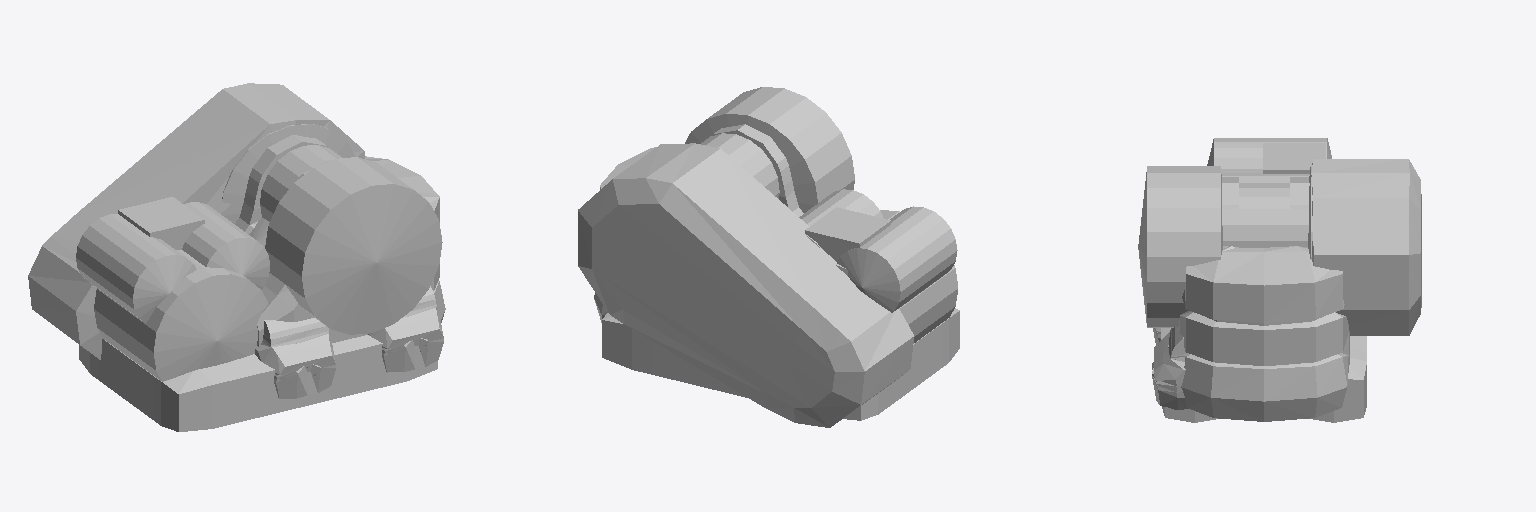
File: Cage.obj
3 views of the same model, side by side, from view 1: azimuth 30°, elevation 25°; view 2: azimuth 150°, elevation 25°; view 3: azimuth 270°, elevation 25° (orthographic).
Parts seen in each view (by area): view 1: Cage; view 2: Cage; view 3: Cage.
Part boxes in pixels (x1,y1,x2,y2): Cage: (28,83,445,431); Cage: (578,87,959,427); Cage: (1138,138,1421,422).
Size of the model in its own units: 6.58 by 4.33 by 4.95.